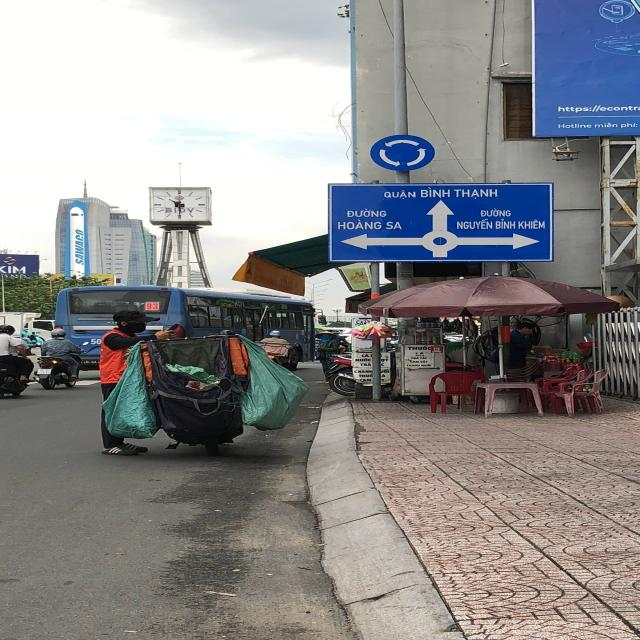Bien bao noi giao nhau chay theo vong xuyen: (367, 132, 440, 172)
